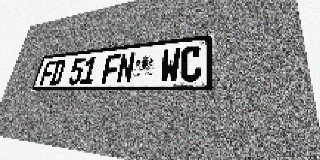1: (79, 56, 98, 84)
5: (67, 57, 86, 85)
C: (180, 45, 202, 82)
D: (49, 59, 66, 85)
F: (101, 54, 121, 84), (39, 61, 56, 85)
N: (116, 52, 136, 84)
W: (159, 47, 181, 82)
